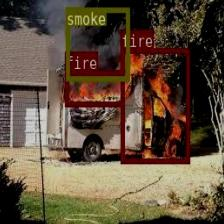fire: (120, 48, 188, 162), (64, 69, 124, 106)
smoke: (65, 7, 129, 81)
